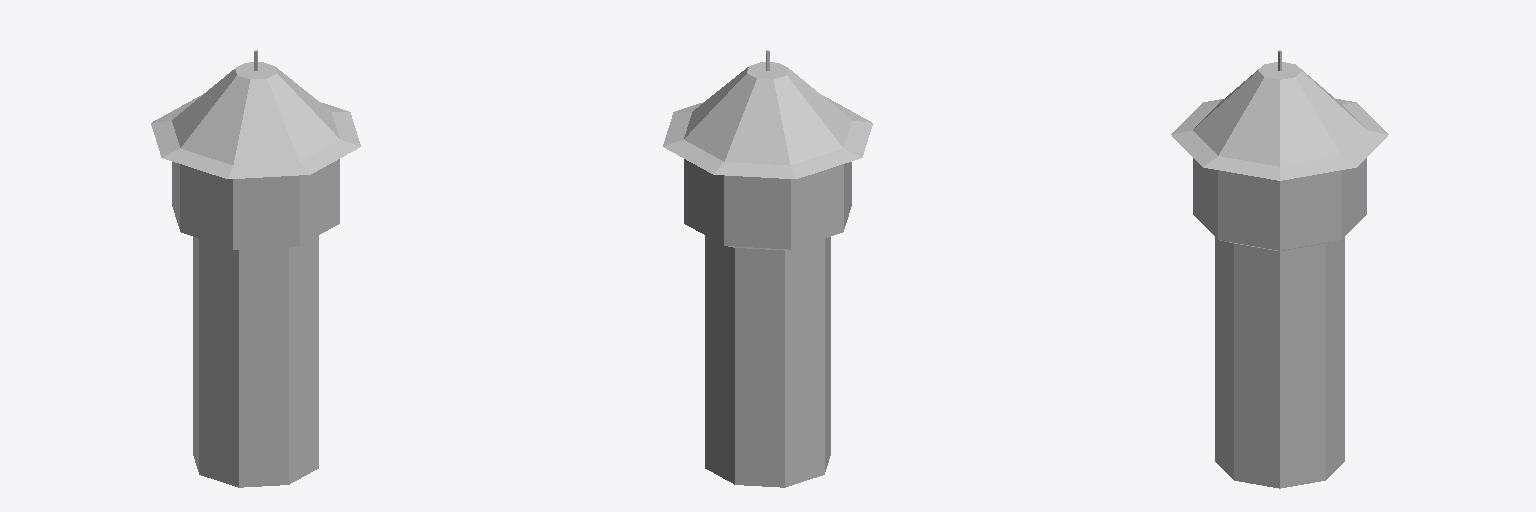
The model's file is water-tower.obj.
3 renders of one model, left to right at view 1: azimuth 30°, elevation 25°; view 2: azimuth 150°, elevation 25°; view 3: azimuth 270°, elevation 25°, orthographic.
Size of the model in its own units: 25 by 51.88 by 25.